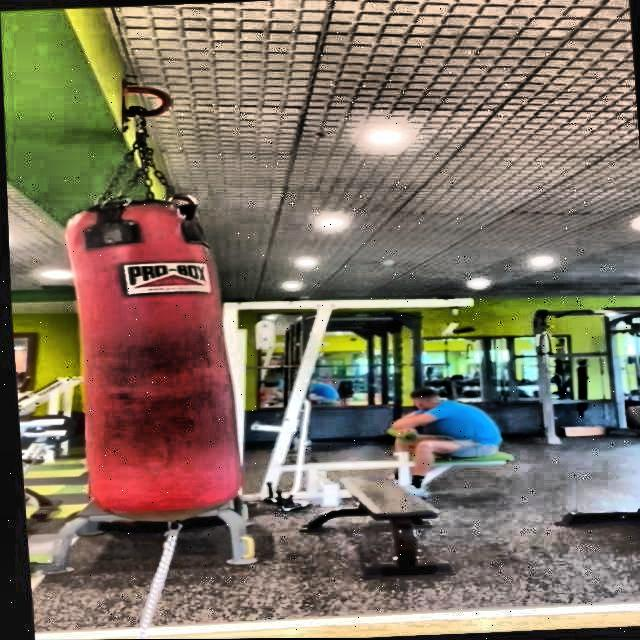boxing-bag: (52, 81, 236, 525)
